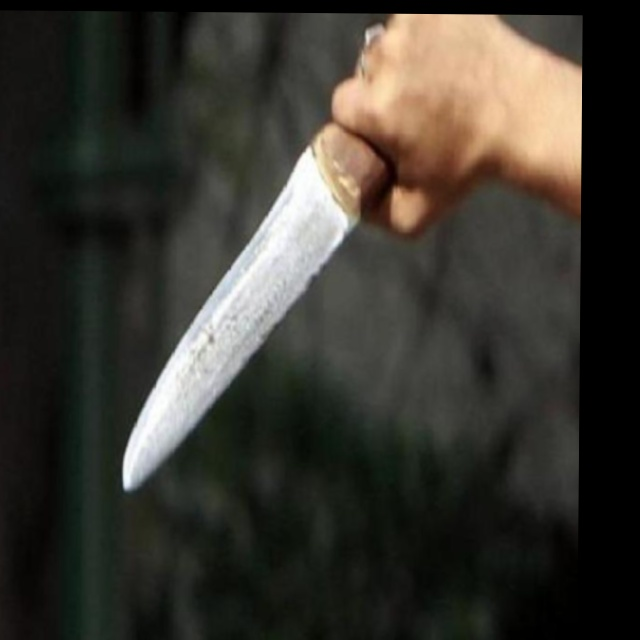Sharp-Object: (121, 117, 398, 498)
